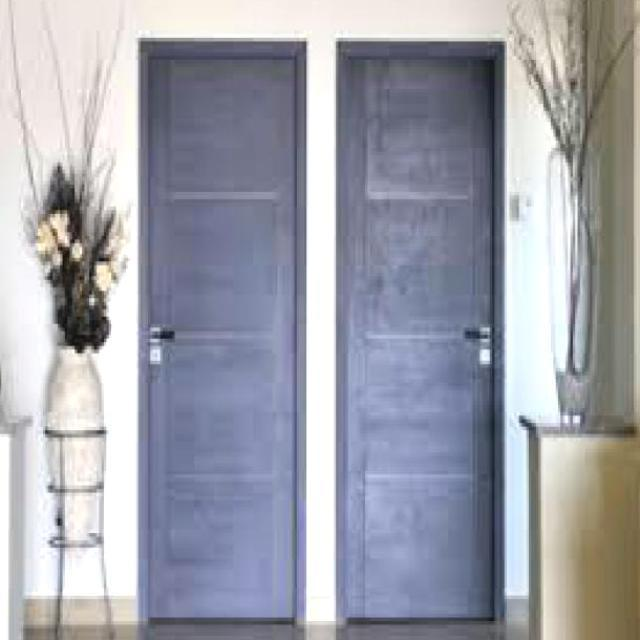door: (333, 39, 508, 625), (137, 39, 303, 624)
